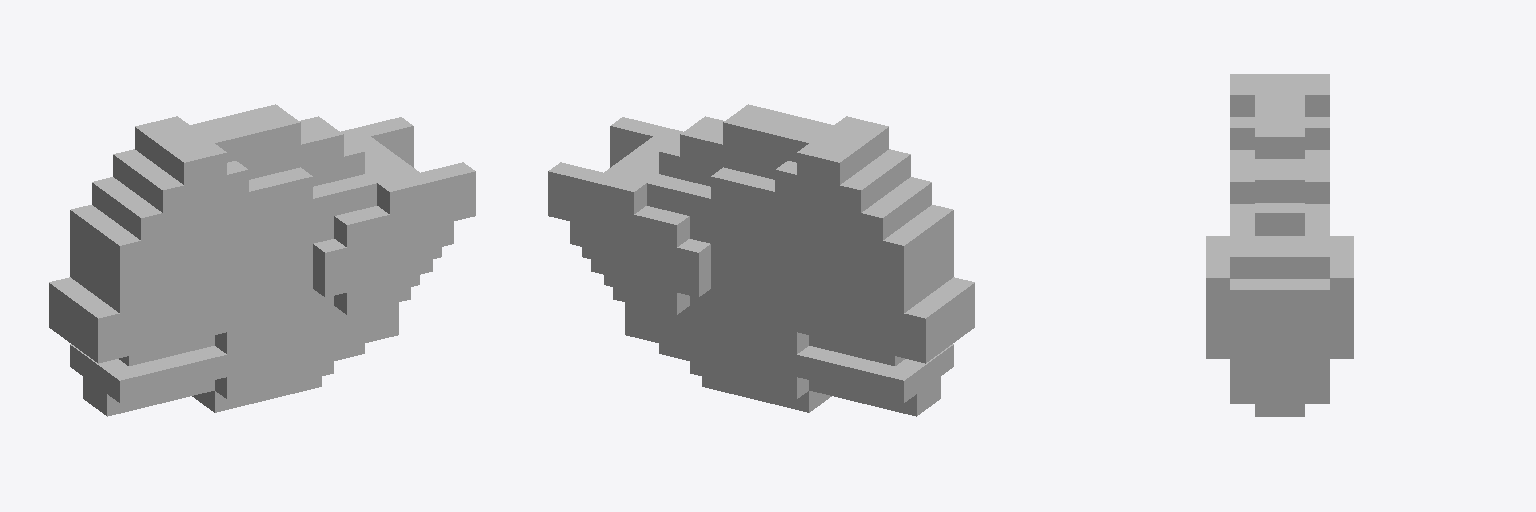
Rendered from FlappyBird.obj.
3 renders of one model, left to right at view 1: azimuth 30°, elevation 25°; view 2: azimuth 150°, elevation 25°; view 3: azimuth 270°, elevation 25°, orthographic.
Parts seen in each view (by area): view 1: ObjObject; view 2: ObjObject; view 3: ObjObject.
Boxes of the visible parts, x1,y1,x2,y2 form: ObjObject: [49, 104, 475, 416]; ObjObject: [548, 104, 974, 416]; ObjObject: [1206, 74, 1353, 416].
Bounding box in the file's own units: 1.7 × 1.2 × 0.6.